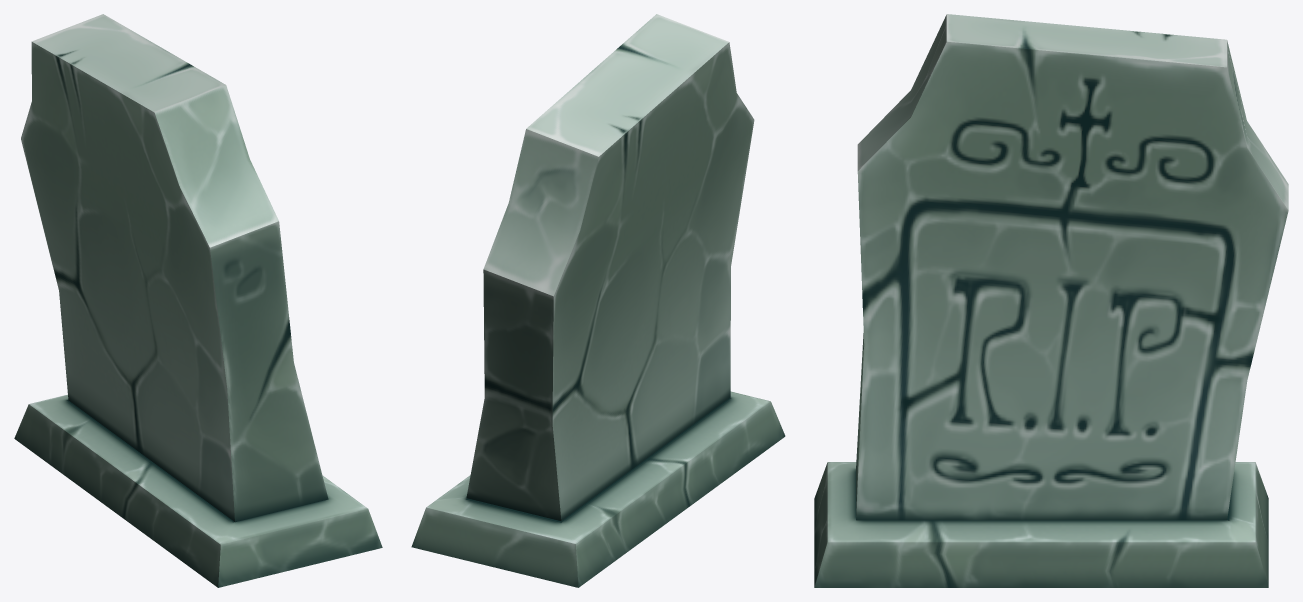
The model's file is tombstone_small_02.fbx.
The picture shows the model from 3 angles, left to right: view 1: azimuth 30°, elevation 25°; view 2: azimuth 150°, elevation 25°; view 3: azimuth 270°, elevation 25°; orthographic projection. The views are drawn at different scales.
Parts seen in each view (by area): view 1: tombstone_small_02; view 2: tombstone_small_02; view 3: tombstone_small_02.
Boxes of the visible parts, box(x1,y1,x2,y2) form: tombstone_small_02: box(14, 14, 382, 587); tombstone_small_02: box(411, 14, 785, 587); tombstone_small_02: box(814, 14, 1288, 587).
Bounding box in the file's own units: 4.24 × 10.64 × 9.27.
